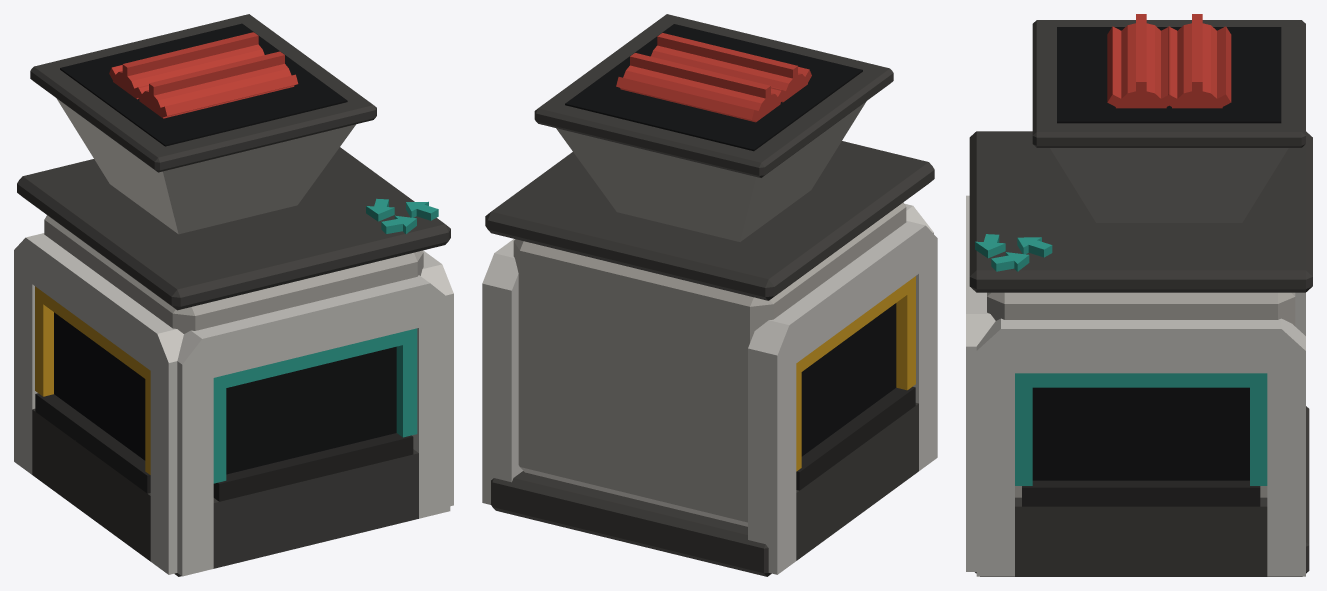
Rendered from recycler.fbx.
3 views of the same model, side by side, from view 1: azimuth 30°, elevation 25°; view 2: azimuth 150°, elevation 25°; view 3: azimuth 270°, elevation 25° (orthographic). The views are drawn at different scales.
Parts seen in each view (by area): view 1: recycler; view 2: recycler; view 3: recycler.
Part boxes in pixels (<box>): recycler: <box>14,14,453,576</box>; recycler: <box>482,14,937,576</box>; recycler: <box>966,14,1312,576</box>.
Bounding box in the file's own units: 3 × 4.27 × 2.97.
